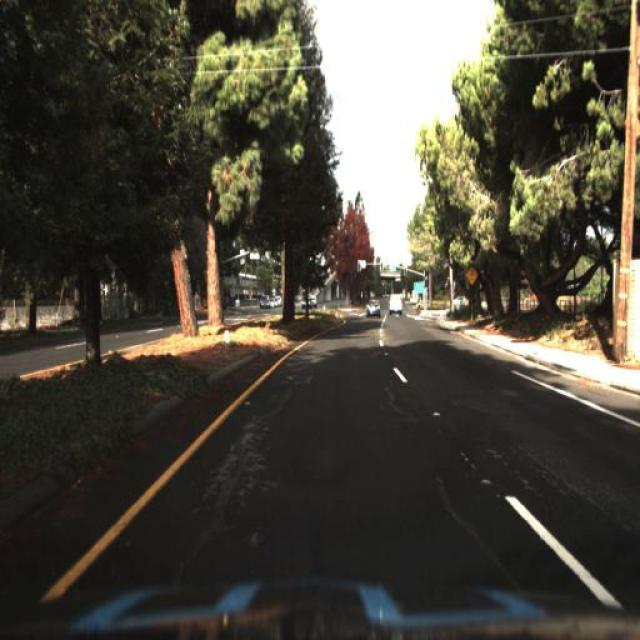car: (386, 290, 403, 316), (366, 298, 384, 316)
trafficLight-RedLeft: (422, 270, 432, 286)
